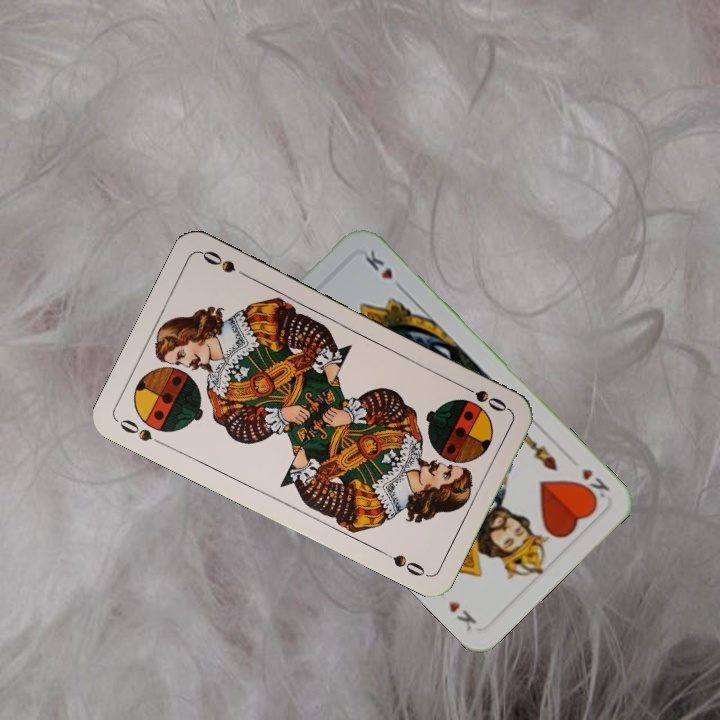HK: (573, 464, 613, 505)
SO: (455, 380, 511, 415), (115, 415, 169, 449)
